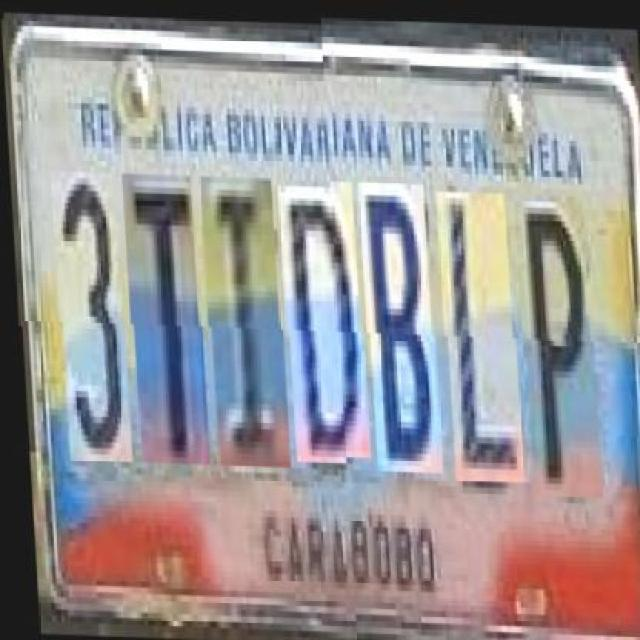3: (51, 163, 127, 454)
b: (358, 179, 437, 470)
d: (279, 177, 366, 455)
i: (201, 168, 285, 460)
l: (437, 188, 518, 480)
p: (514, 191, 597, 494)
t: (122, 167, 205, 458)
